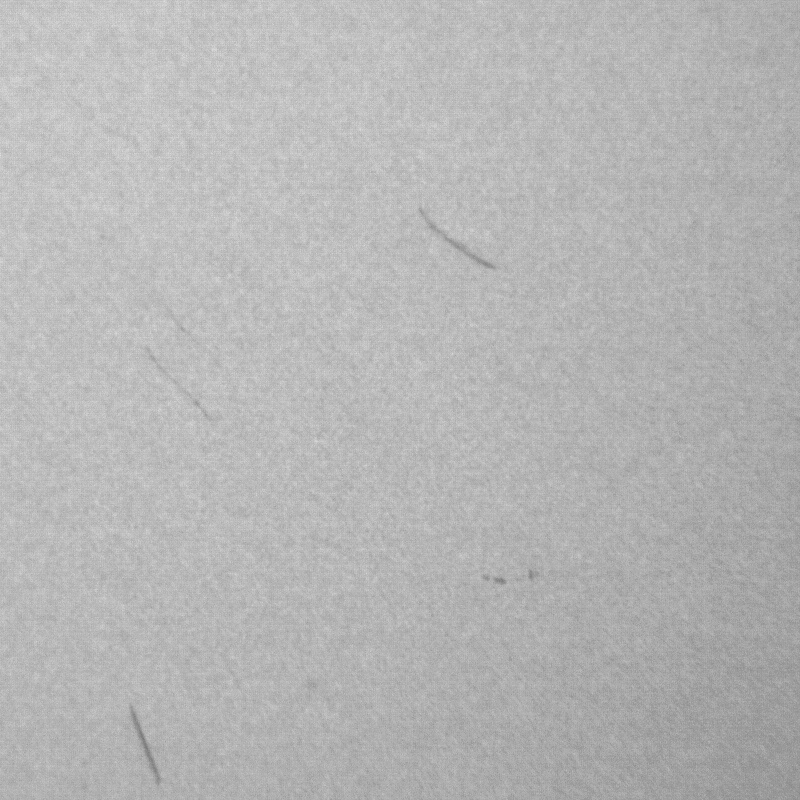defect: (150, 348, 216, 426), (421, 215, 507, 273), (164, 304, 232, 366), (126, 705, 165, 789), (484, 570, 537, 585)
